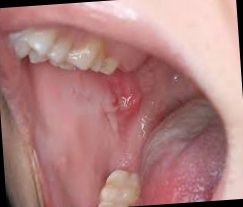Ulcer: (109, 86, 145, 117)
